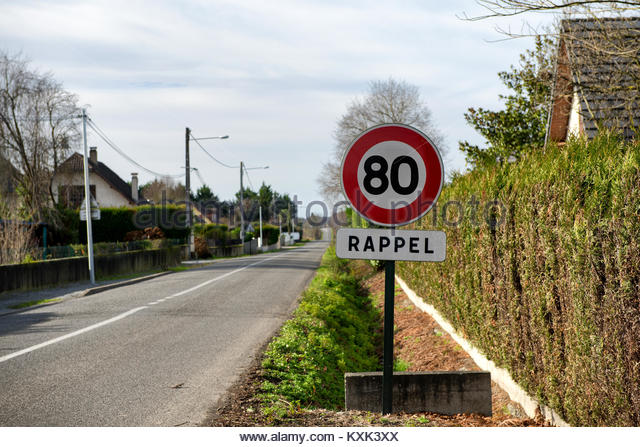Speed_limit_80km: (341, 122, 444, 228)
